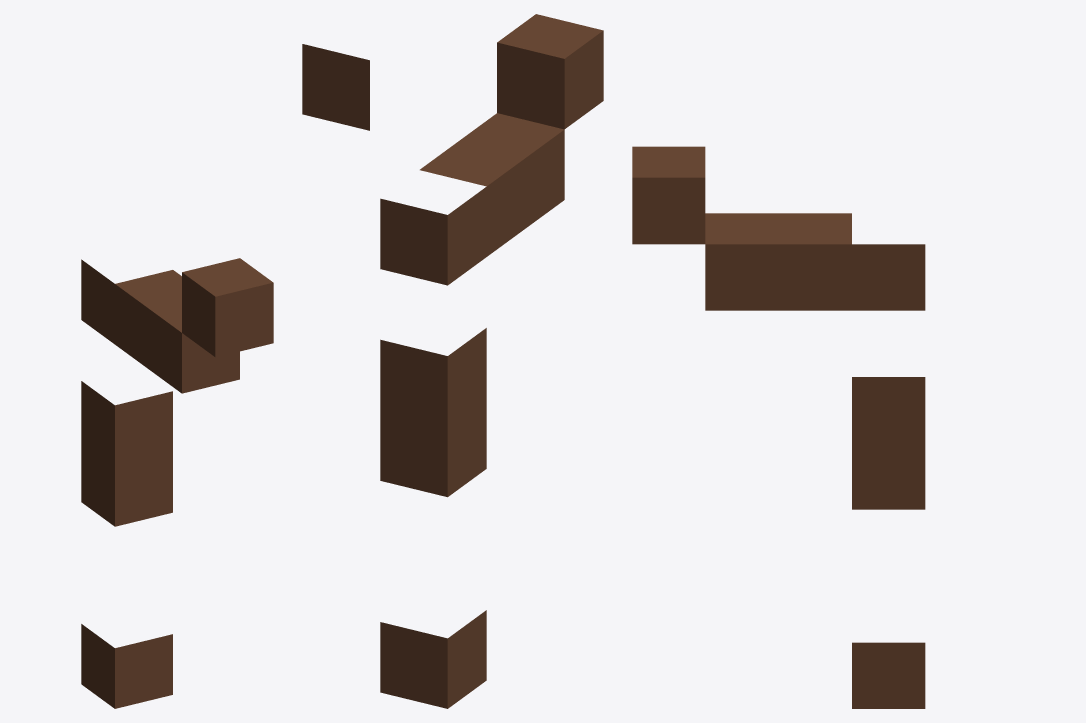
Rendered from tree-cherry-1-pink2-6b452e.gltf.
3 views of the same model, side by side, from view 1: azimuth 30°, elevation 25°; view 2: azimuth 150°, elevation 25°; view 3: azimuth 270°, elevation 25° (orthographic). The views are drawn at different scales.
Visible parts, largest first — view 1: tree-cherry-1-pink2-6b452e; view 2: tree-cherry-1-pink2-6b452e; view 3: tree-cherry-1-pink2-6b452e.
Part boxes in pixels (x1,y1,x2,y2): tree-cherry-1-pink2-6b452e: [81, 258, 273, 708]; tree-cherry-1-pink2-6b452e: [302, 14, 603, 708]; tree-cherry-1-pink2-6b452e: [632, 146, 925, 708].
Size of the model in its own units: 1 by 10 by 6.
